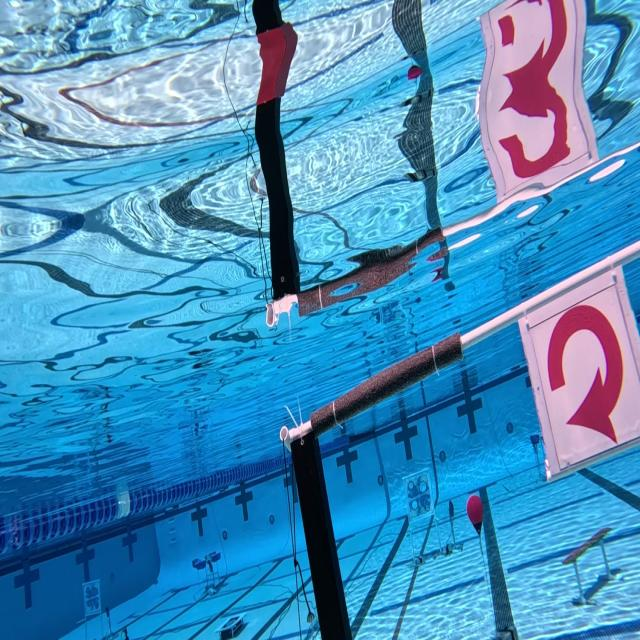red_side: (512, 294, 640, 472)
